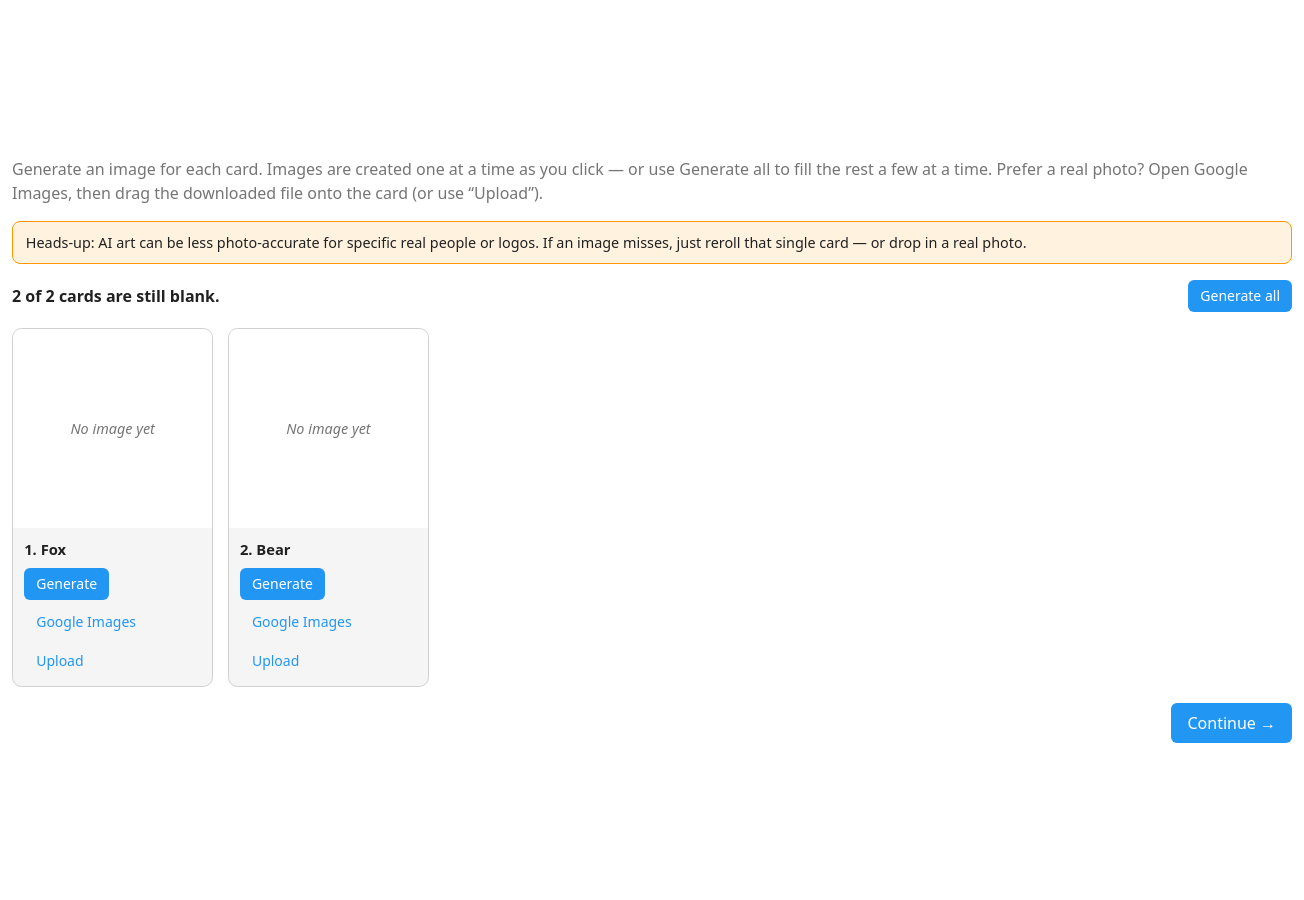
Test case: ImagesStep › a per-card failure shows an inline error + Retry and does not block others
# Fox fails → inline error + Retry.
What coordinates should you click on to do the following:
click the button "Generate" below "Fox"
I would click on:
 (67, 584)
Its box is x1=24 y1=568 x2=109 y2=600.
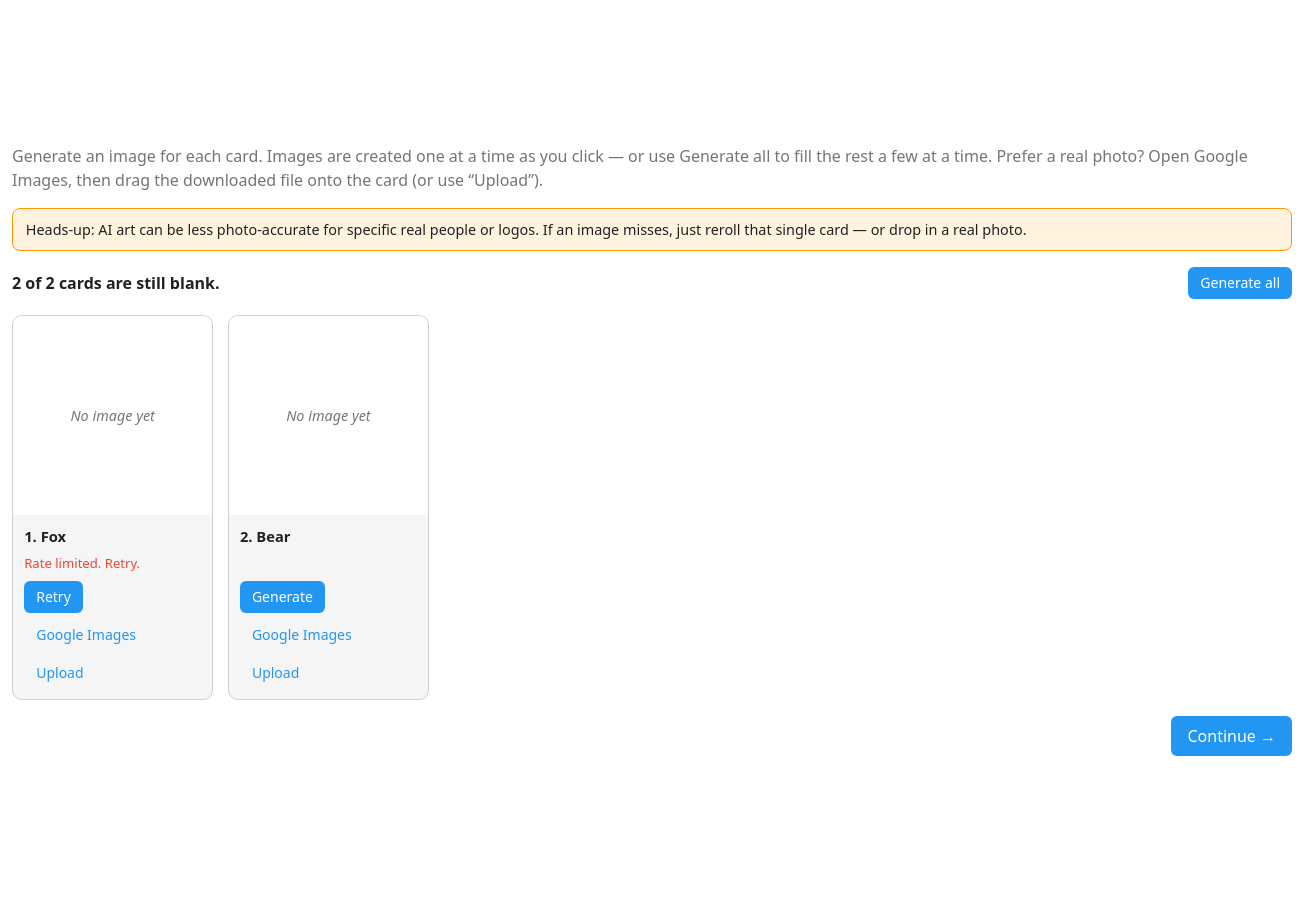
Result: the message "Rate limited. Retry." is shown at x1=24 y1=554 x2=140 y2=572
Result: the button "Retry" is shown at x1=24 y1=581 x2=83 y2=613
# Bear still works despite Fox's failure.
What coordinates should you click on to do the following:
click the button "Generate"
I would click on:
 (282, 597)
Its box is x1=240 y1=581 x2=325 y2=613.
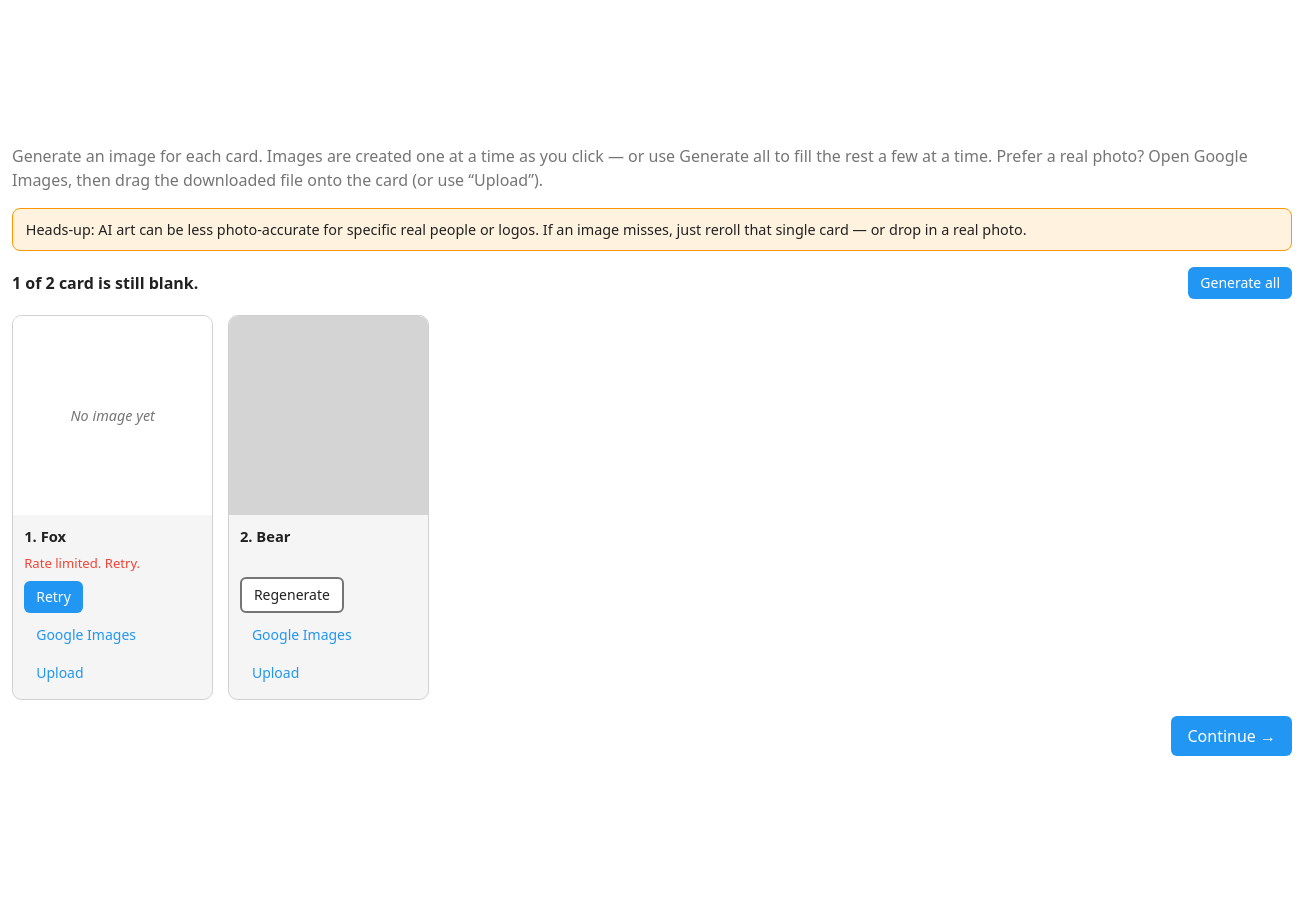
# Retry Fox → succeeds, error clears.
What coordinates should you click on to do the following:
click the button "Retry"
I would click on:
 (54, 597)
Its box is x1=24 y1=581 x2=83 y2=613.
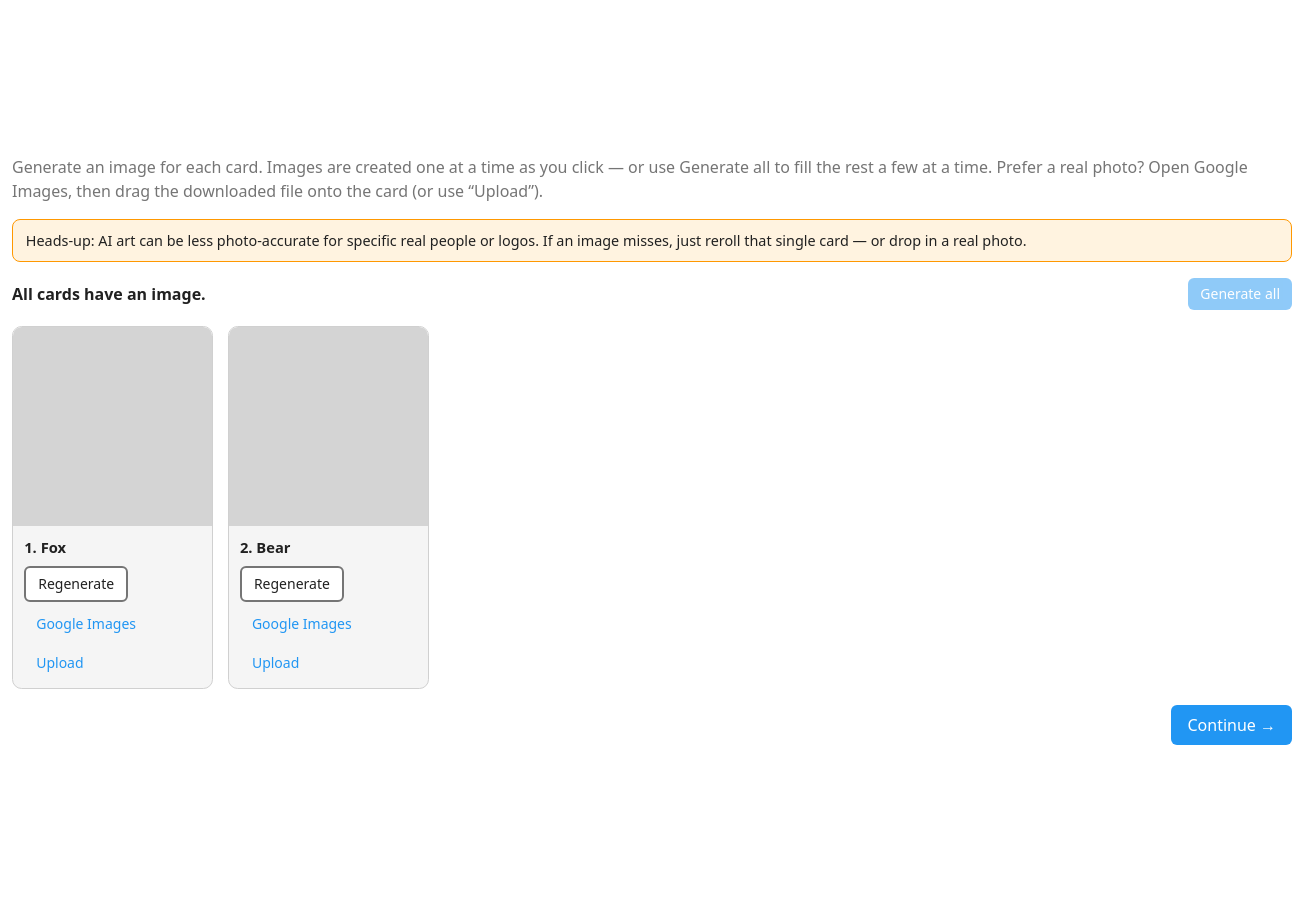
Result: the message "Rate limited. Retry." is gone
